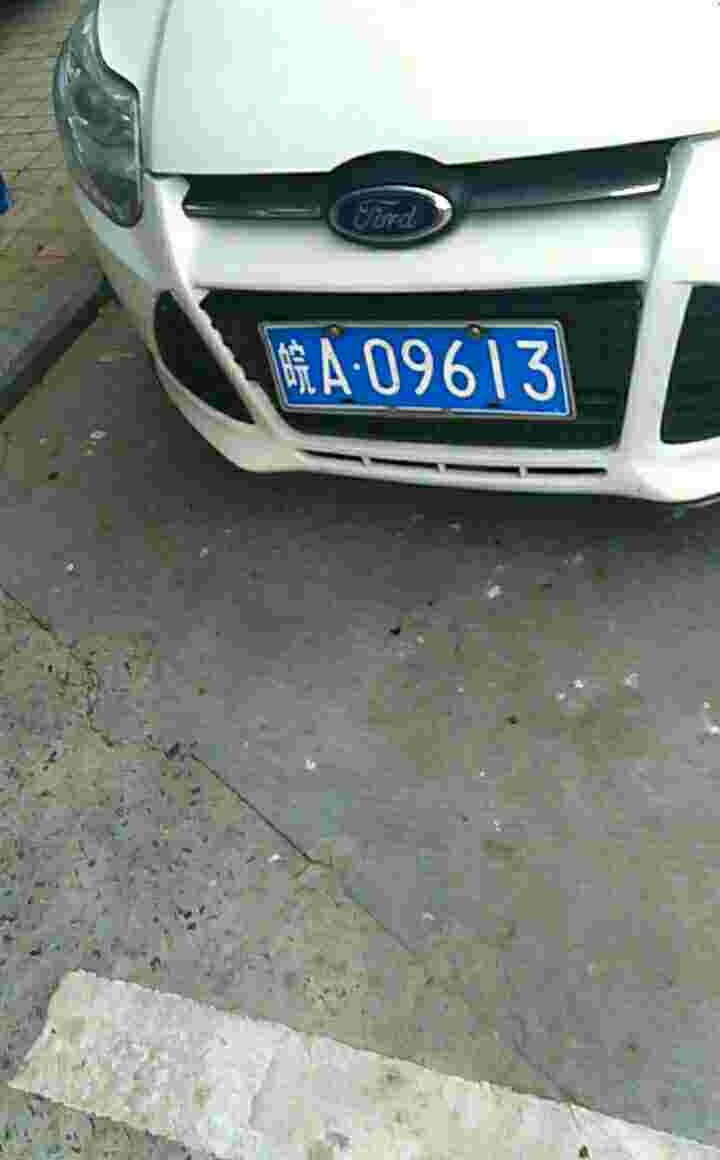car: (256, 322, 558, 421)
